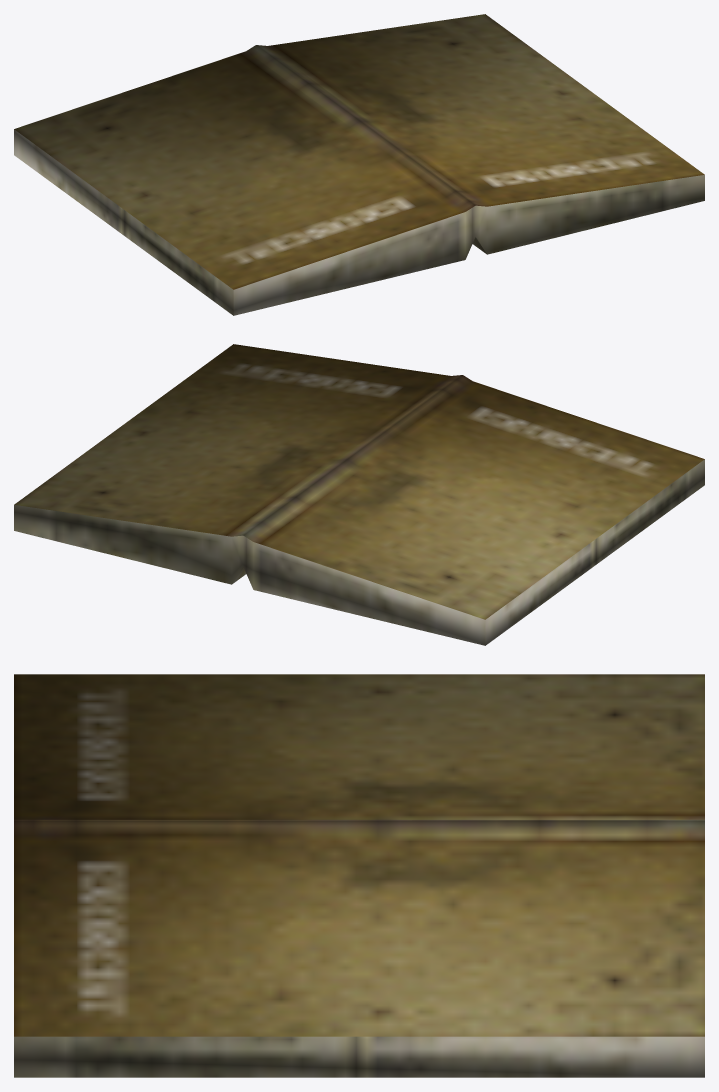
Rendered from M_Home_Garden_book2.fbx.
The picture shows the model from 3 angles, top to bottom: view 1: azimuth 30°, elevation 25°; view 2: azimuth 150°, elevation 25°; view 3: azimuth 270°, elevation 25°; orthographic projection. The views are drawn at different scales.
Parts seen in each view (by area): view 1: M_Home_Garden_book2; view 2: M_Home_Garden_book2; view 3: M_Home_Garden_book2.
Part boxes in pixels (box(x1,y1,x2,y2)): M_Home_Garden_book2: box(14, 14, 704, 315); M_Home_Garden_book2: box(14, 344, 704, 645); M_Home_Garden_book2: box(14, 674, 704, 1077).
Size of the model in its own units: 63.47 by 6.68 by 51.2.
